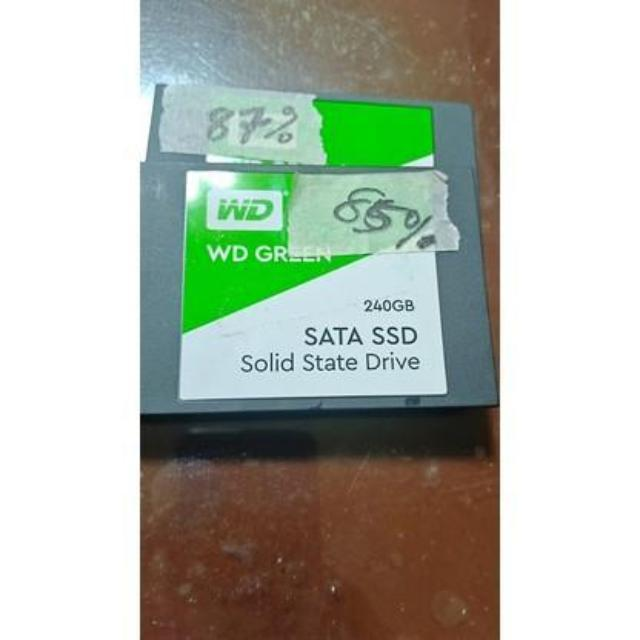DISK: (136, 160, 504, 426)
